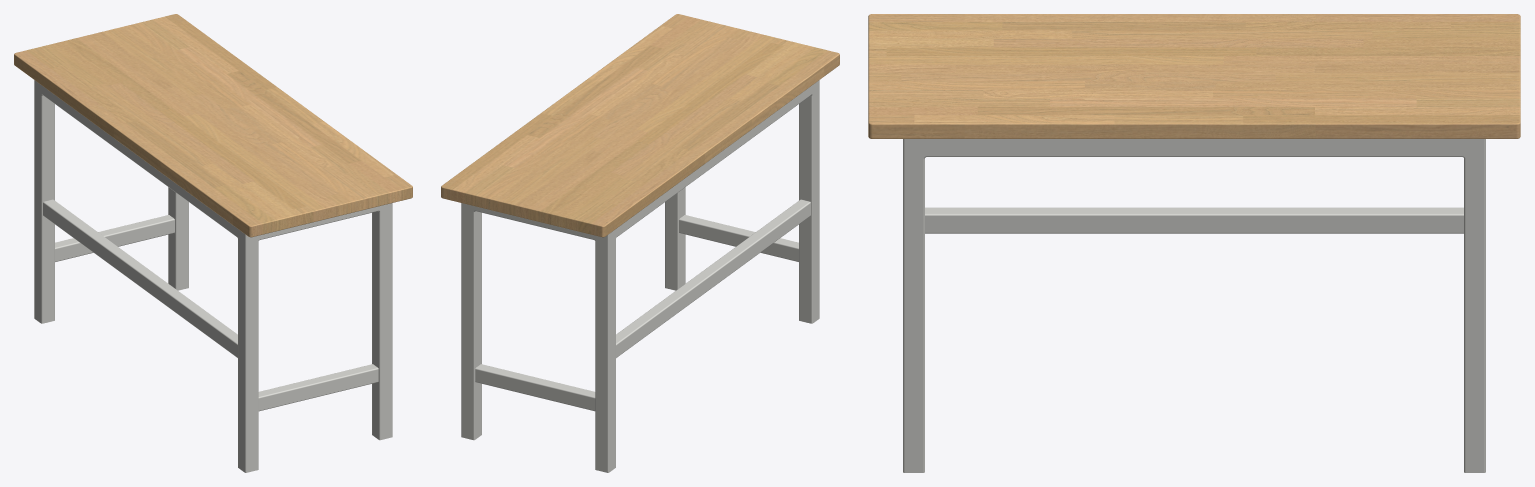
Rendered from workbench.glb.
3 views of the same model, side by side, from view 1: azimuth 30°, elevation 25°; view 2: azimuth 150°, elevation 25°; view 3: azimuth 270°, elevation 25° (orthographic). The views are drawn at different scales.
Bounding box in the file's own units: 0.6 × 0.9 × 1.5.
Materials: 2 (1 with a texture image).
